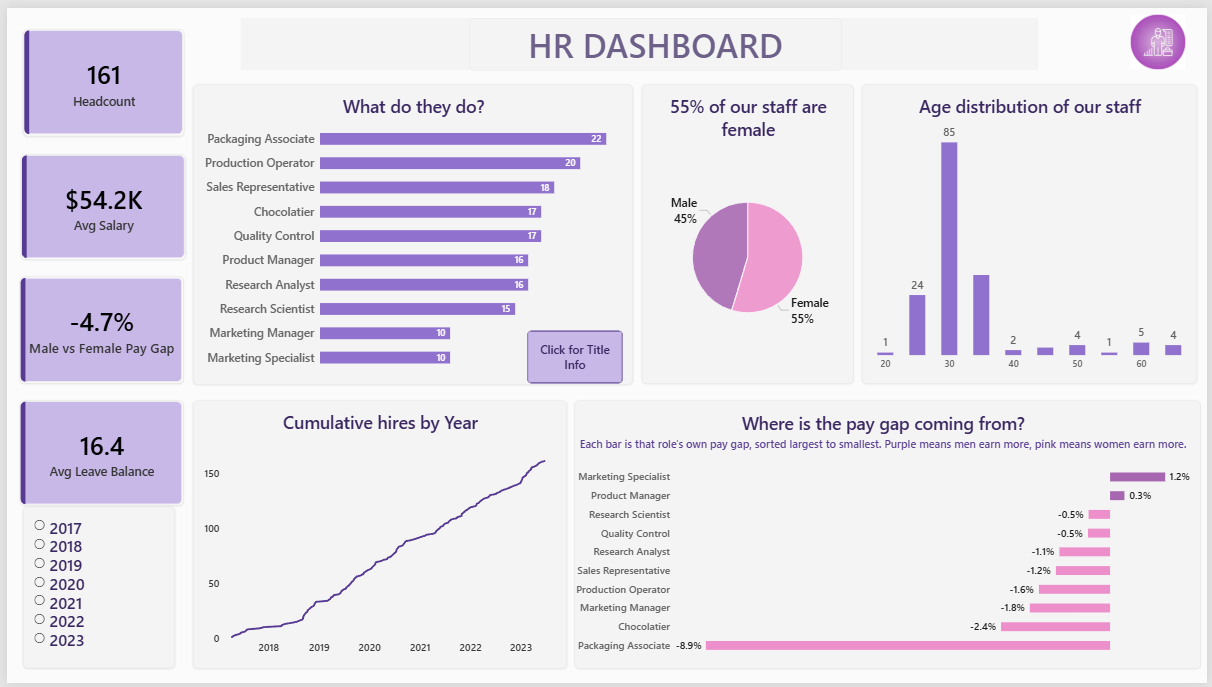

The page's visual inventory and layout, read from the dashboard file:
{"tool":"powerbi","page":{"name":"Overview","canvas":[1920,1080],"ordinal":3},"visuals":[{"type":"cardVisual","fields":{"Data":["fact_staff.Headcount"]},"box":[26,34.6,257.5,171],"z":0},{"type":"cardVisual","fields":{"Data":["fact_staff.Avg Salary"]},"box":[21.6,233.4,264,168.8],"z":1000},{"type":"cardVisual","fields":{"Data":["_Measures.Gender Pay Gap%"]},"box":[19.9,430,262.4,170.1],"z":2000},{"type":"cardVisual","fields":{"Data":["dim_qualification.Avg Leave Balance"]},"box":[19.9,628,262.4,168.3],"z":3000},{"type":"barChart","title":"What do they do?","fields":{"Category":["staff.Job Title"],"Y":["staff.Headcount"]},"box":[298.7,121.2,703.3,480.4],"z":4000},{"type":"pieChart","title":"55% of our staff are female","fields":{"Category":["staff.Gender"],"Y":["staff.Headcount"]},"box":[1015.2,121.2,338.4,479.6],"z":5000},{"type":"lineChart","title":"Cumulative hires by Year","fields":{"Category":["fact_staff.Date of Join"],"Y":["fact_staff.Cummulative headcount"]},"box":[298.7,627.6,597.3,428.5],"z":6000},{"type":"columnChart","title":"Age distribution of our staff","fields":{"Category":["staff.Age (bins)"],"Y":["staff.Headcount"]},"box":[1368.1,121.2,535.7,479.6],"z":7000},{"type":"textbox","box":[740,16,596,84],"z":8000},{"type":"shape","box":[374.6,16.3,1275.8,83.2],"z":9000},{"type":"image","box":[1798.8,10.9,86.9,88.7],"z":10000},{"type":"listSlicer","fields":{"Values":["fact_staff.Date of Join.Variation.Date Hierarchy.Year"]},"box":[25.3,798.1,242.5,258.8],"z":11000},{"type":"actionButton","box":[832.4,515.8,153.8,85.1],"z":12000},{"type":"barChart","title":"Where is the pay gap coming from?","fields":{"Category":["fact_staff.Job Title"],"Y":["_Measures.Gender Pay Gap%"]},"box":[908.9,627.6,1002,428.5],"z":13000}]}

Visuals, with their boxes in screenshot pixels (x1, y1, x2, y2), scaled from the page's 1920x1080 canvas onto the 1212x687 screenshot:
cardVisual - fact_staff.Headcount: box(16, 22, 179, 131)
cardVisual - fact_staff.Avg Salary: box(14, 148, 180, 256)
cardVisual - _Measures.Gender Pay Gap%: box(13, 274, 178, 382)
cardVisual - dim_qualification.Avg Leave Balance: box(13, 399, 178, 507)
"What do they do?" barChart: box(189, 77, 633, 383)
"55% of our staff are female" pieChart: box(641, 77, 854, 382)
"Cumulative hires by Year" lineChart: box(189, 399, 566, 672)
"Age distribution of our staff" columnChart: box(864, 77, 1202, 382)
textbox: box(467, 10, 843, 64)
shape: box(236, 10, 1042, 63)
image: box(1135, 7, 1190, 63)
listSlicer - fact_staff.Date of Join.Variation.Date Hierarchy.Year: box(16, 508, 169, 672)
actionButton: box(525, 328, 623, 382)
"Where is the pay gap coming from?" barChart: box(574, 399, 1206, 672)
